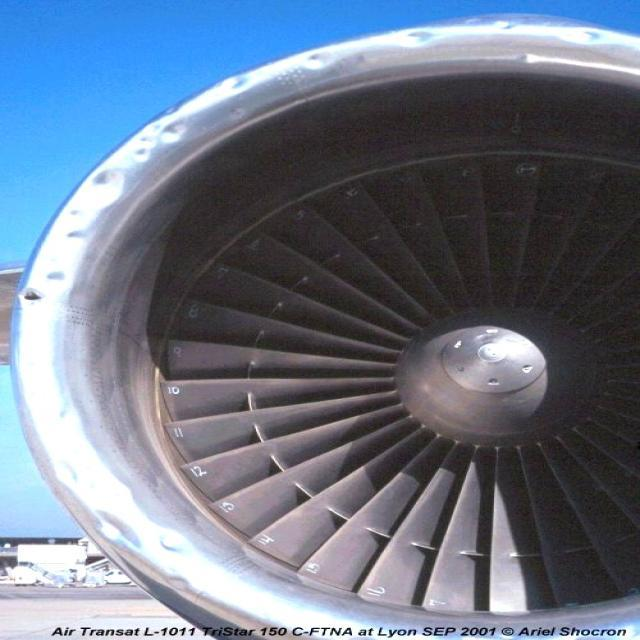dent: (86, 503, 210, 600)
